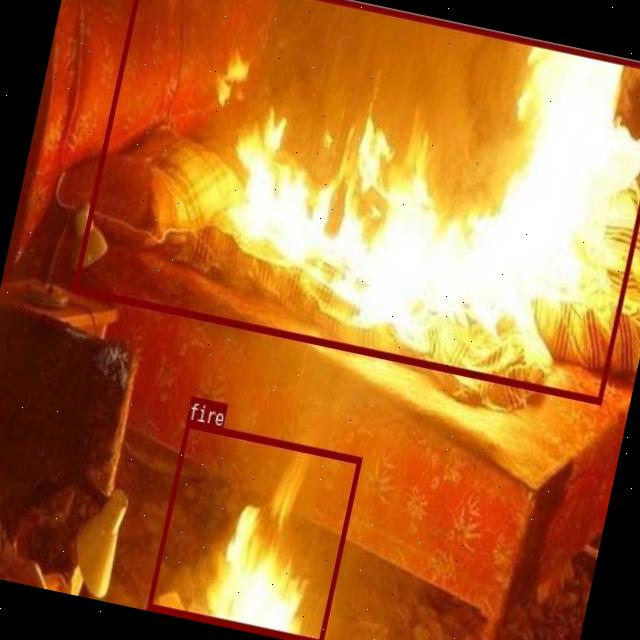fire: (71, 0, 640, 402), (145, 420, 361, 640)
